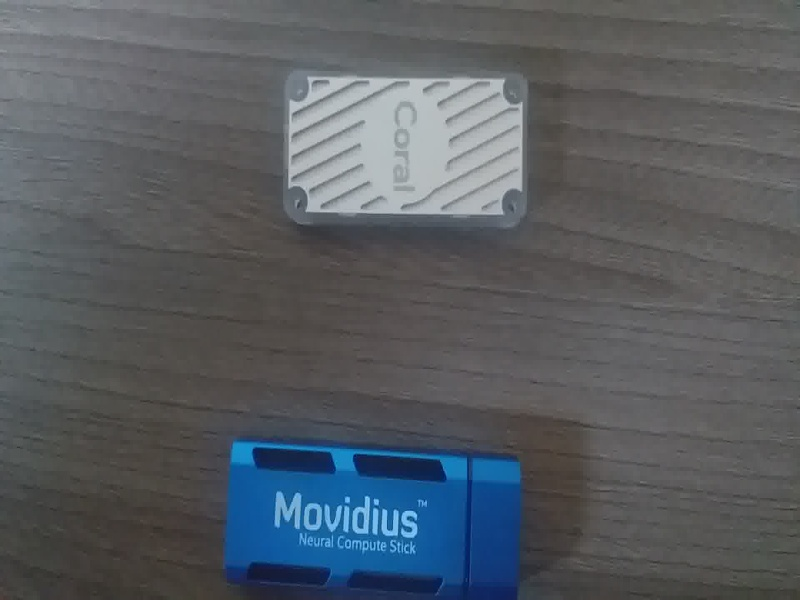coral: (264, 56, 542, 253)
movidius: (213, 426, 529, 596)
